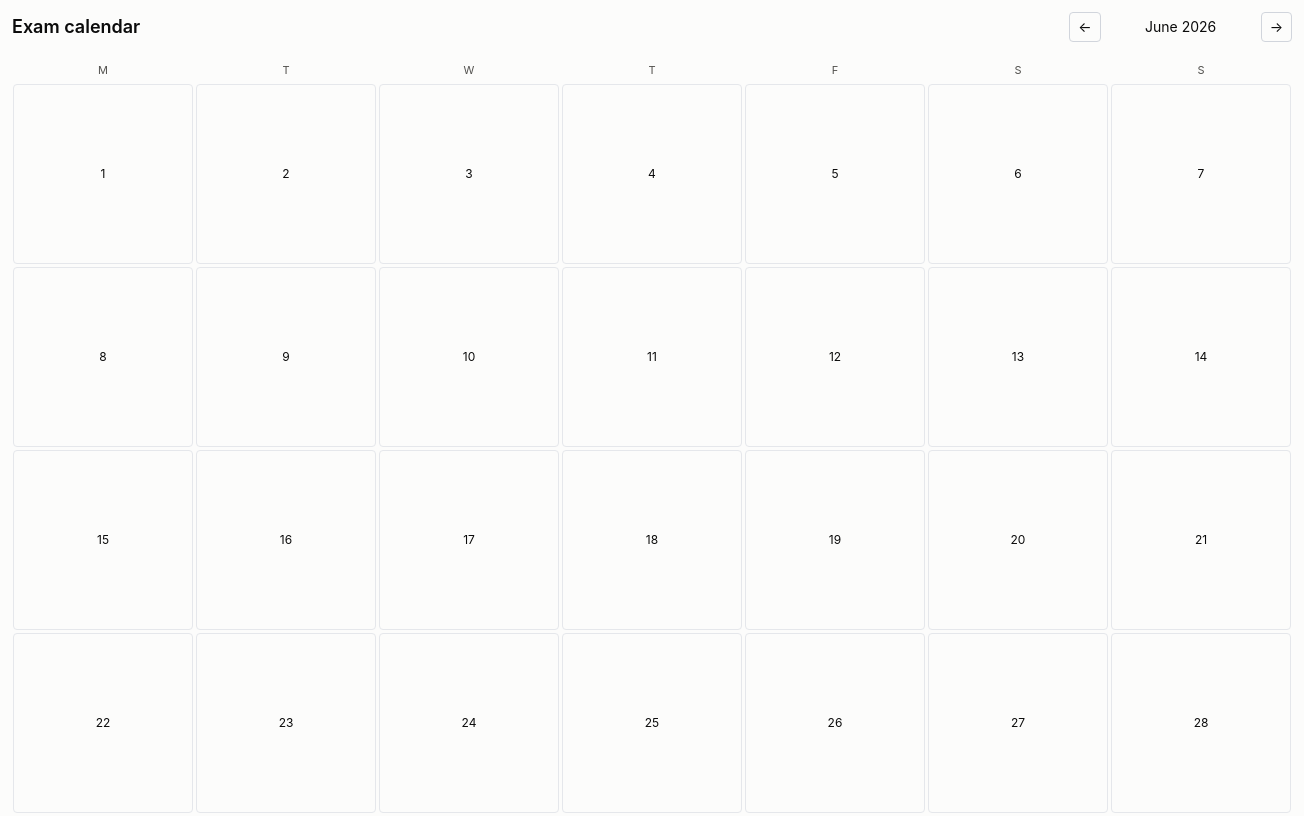
CalendarView › moves between months and refetches
The image size is (1304, 816).
Expected: the text "June 2026" is shown, [1145,18,1216,35]
Click the button named "Next month" at (1276, 27), box [1261,12,1292,42]
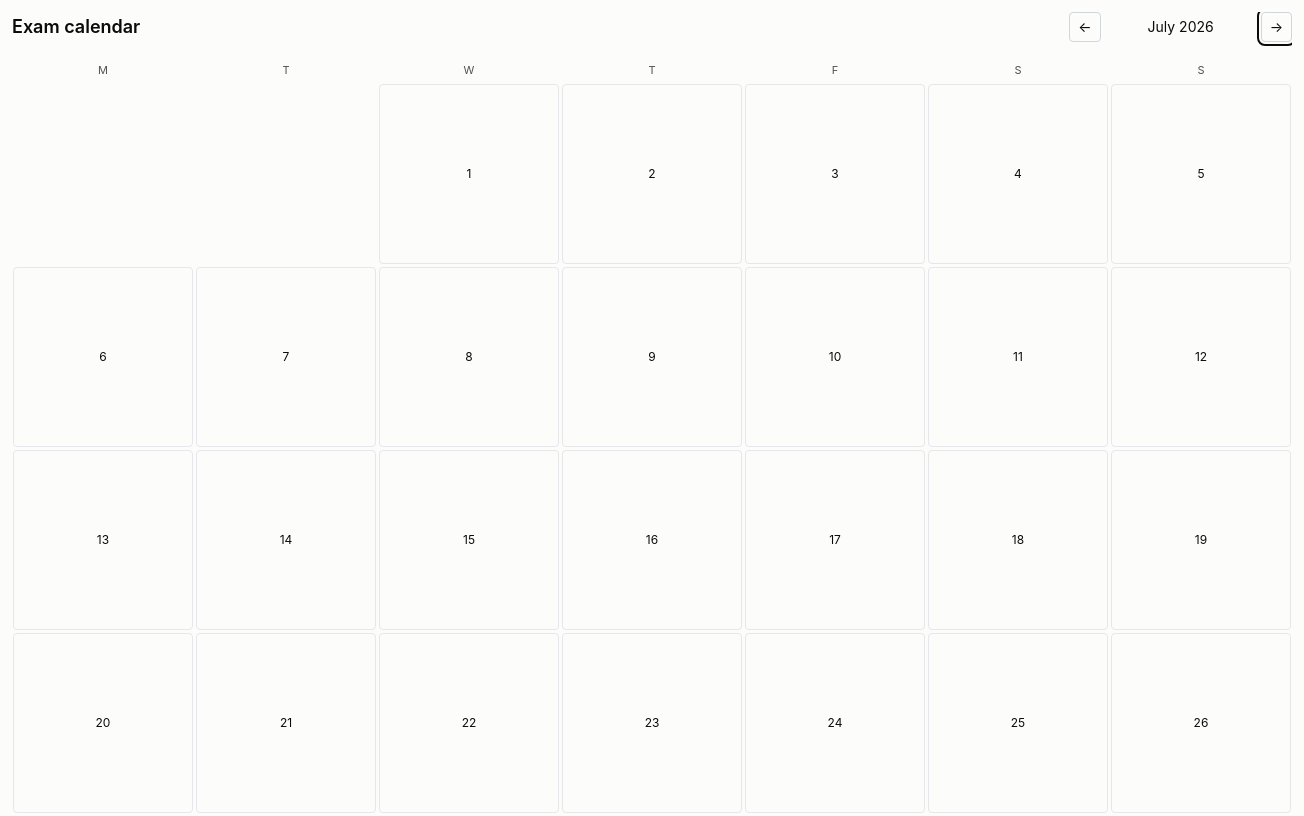
Result: the text with test id "month-label" reads "July 2026" at [1148,18,1214,35]
Click the button named "Previous month" at (1085, 27), box [1069,12,1101,42]
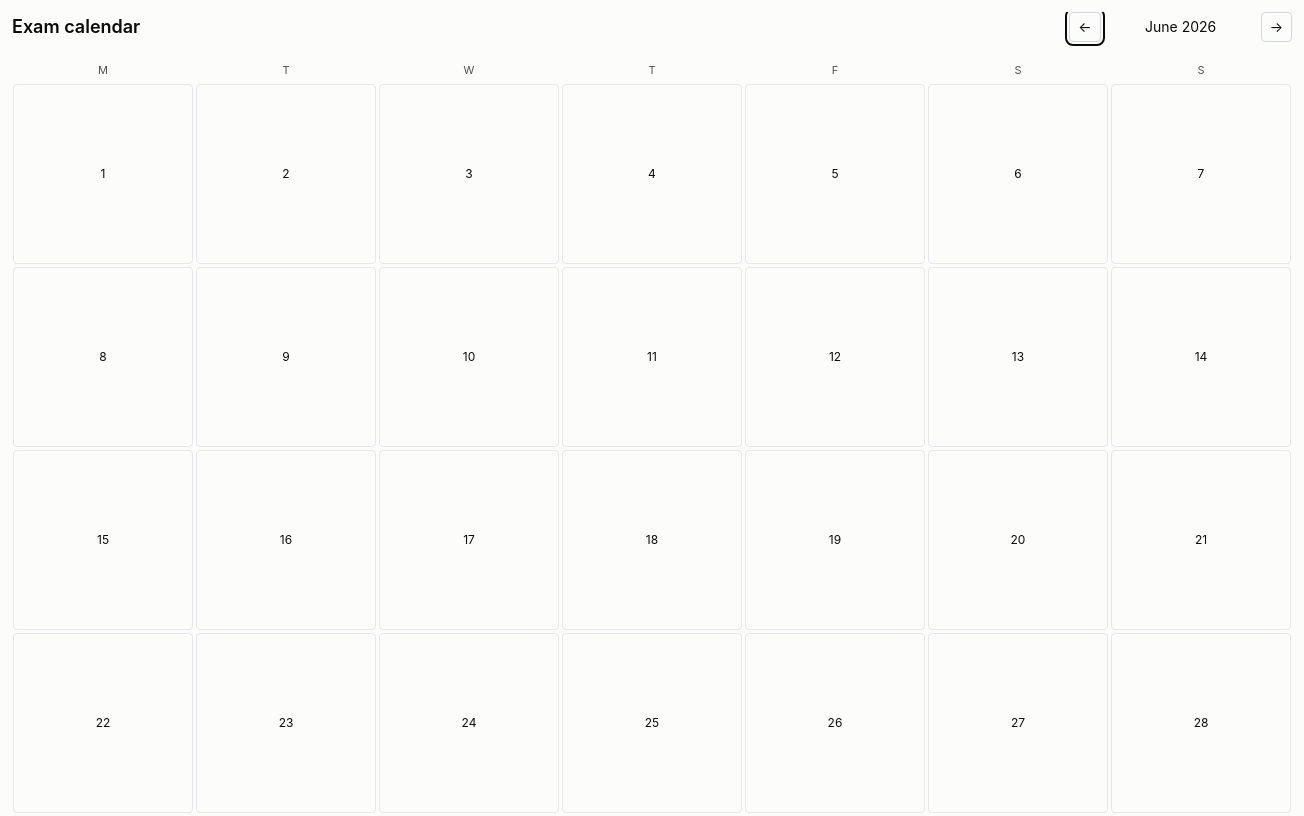
Result: the text with test id "month-label" reads "June 2026" at [1145,18,1216,35]
